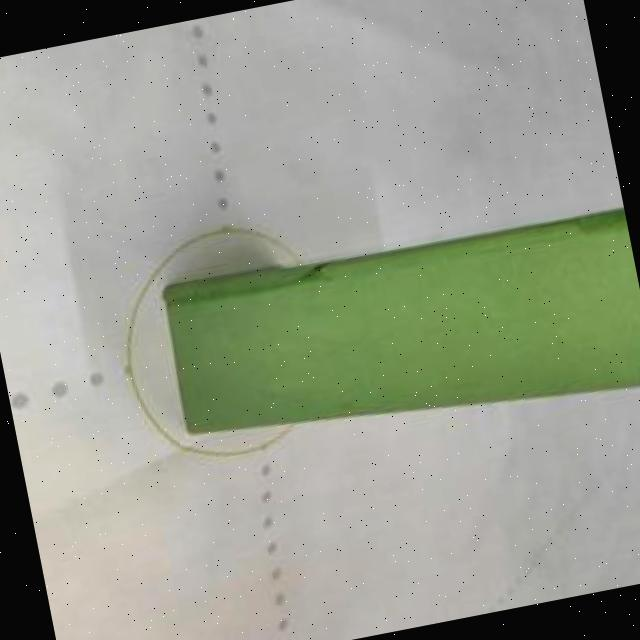greenbox: (162, 200, 640, 449)
